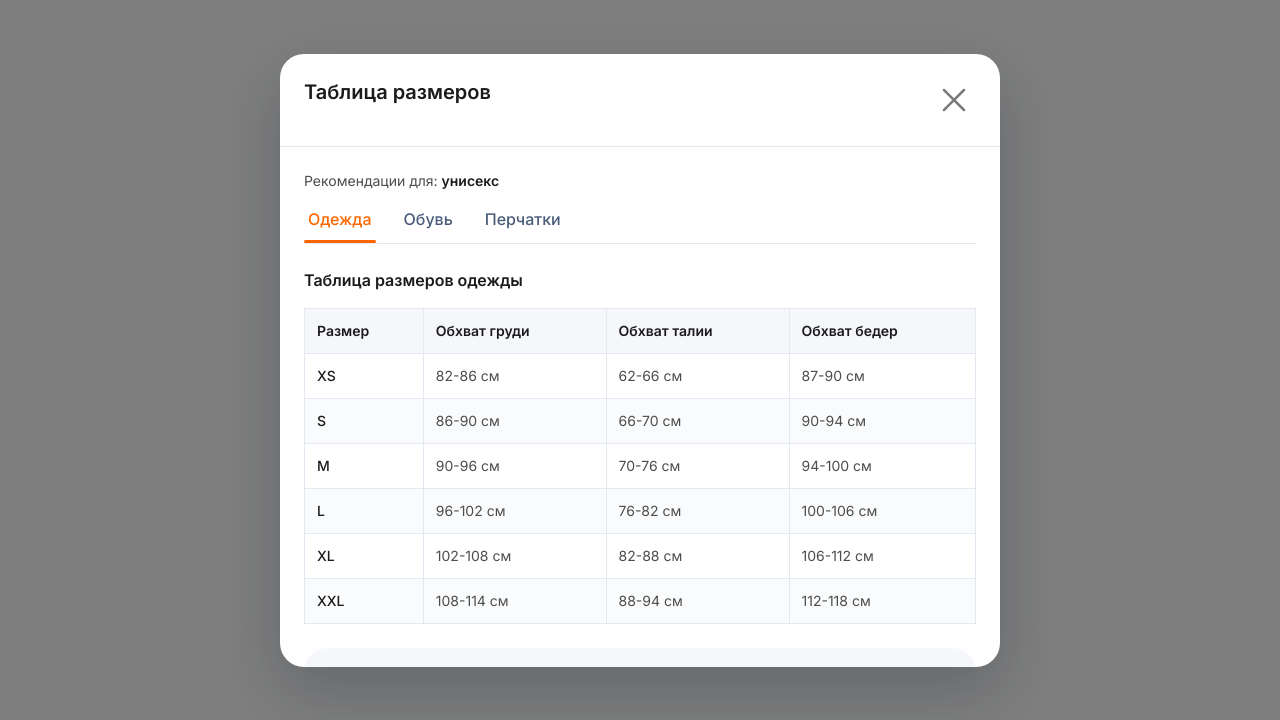
Scenario: SizeChartModal › Tabs › switches to shoes tab
The width and height of the screenshot is (1280, 720).
Click the tab "Обувь": (428,224) [400,206,457,242]
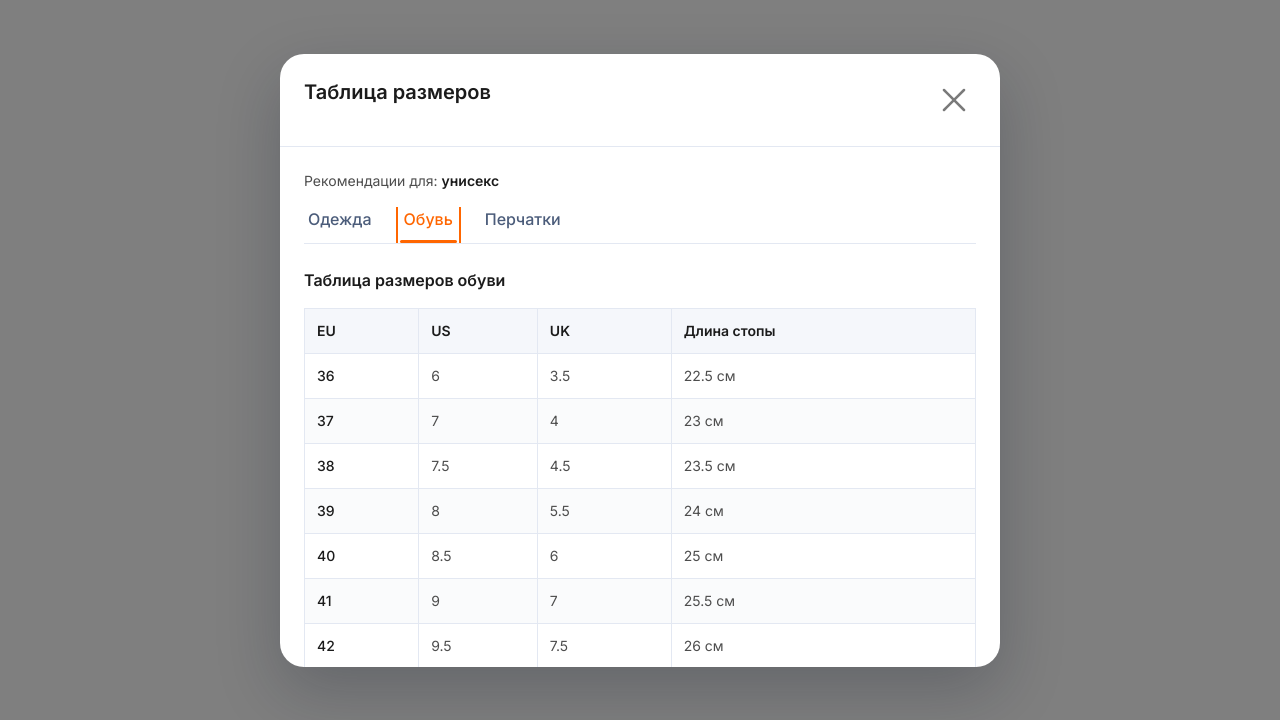
Now the heading "Таблица размеров обуви" is shown, box [304,270,505,290]
